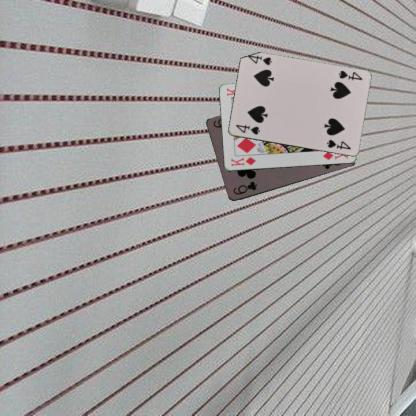4s: (233, 122, 260, 136), (336, 68, 363, 82)
6c: (231, 179, 258, 196)
Kd: (228, 154, 257, 168)
